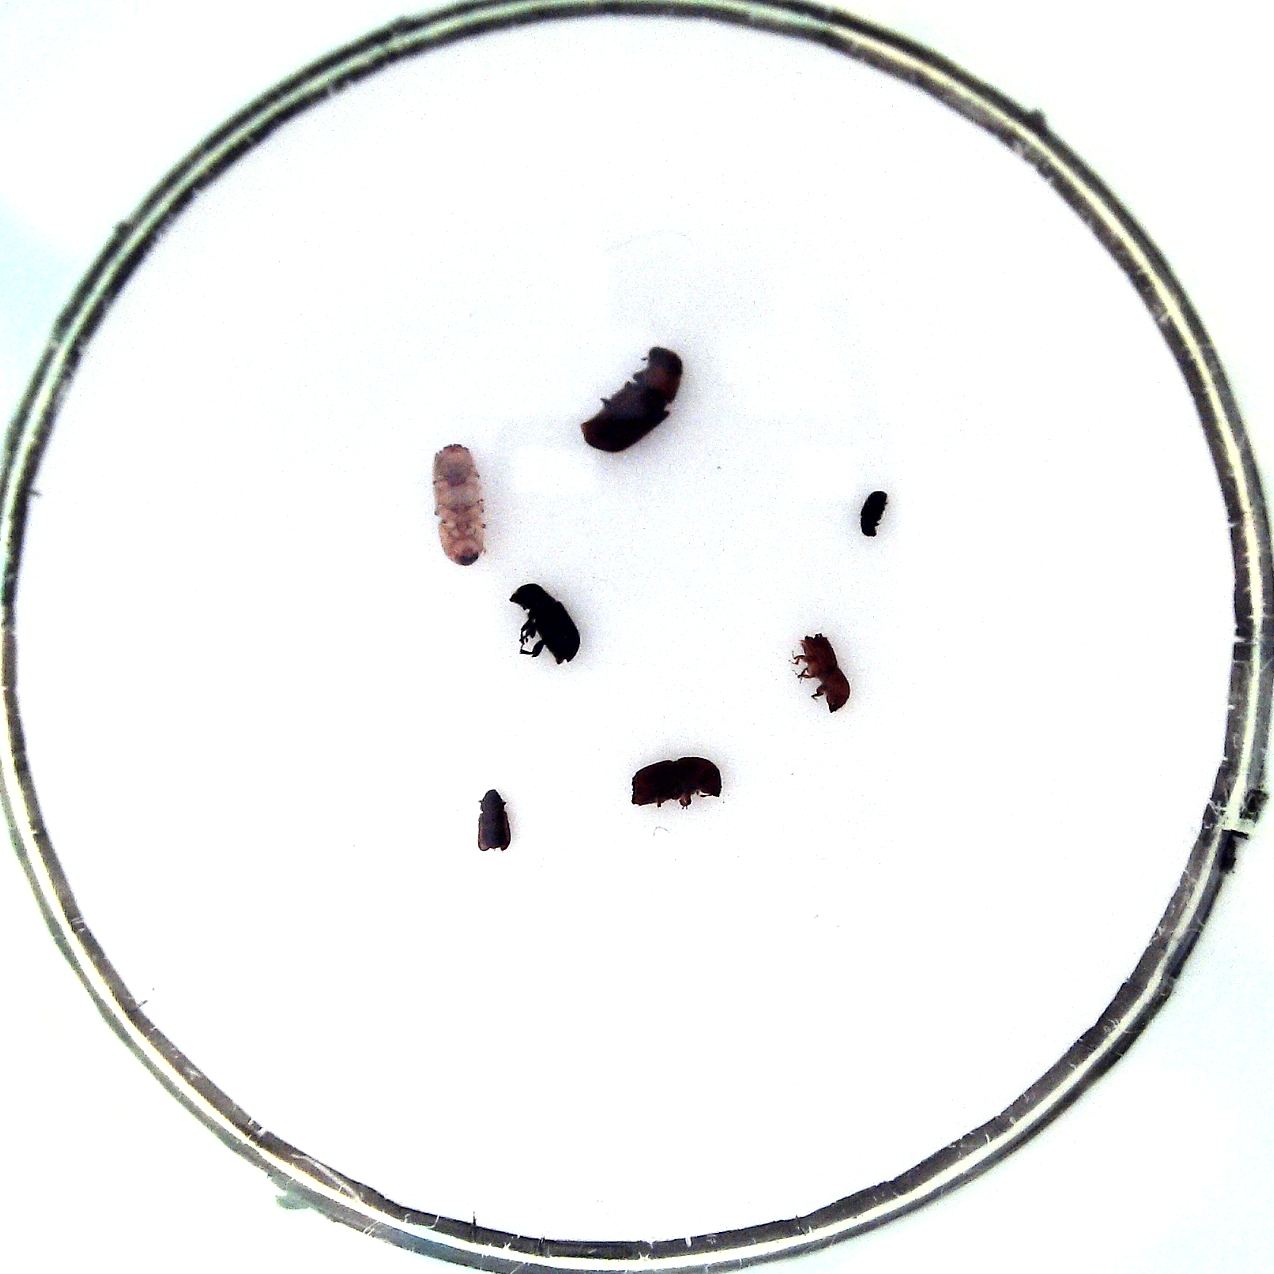Boerner: (433, 444, 487, 566)
Leconte: (580, 348, 684, 453)
acuminatus: (859, 491, 888, 538)
armandi: (510, 583, 581, 664)
coleoptera: (799, 632, 850, 712), (477, 789, 509, 852)
linnaeus: (630, 756, 722, 806)
